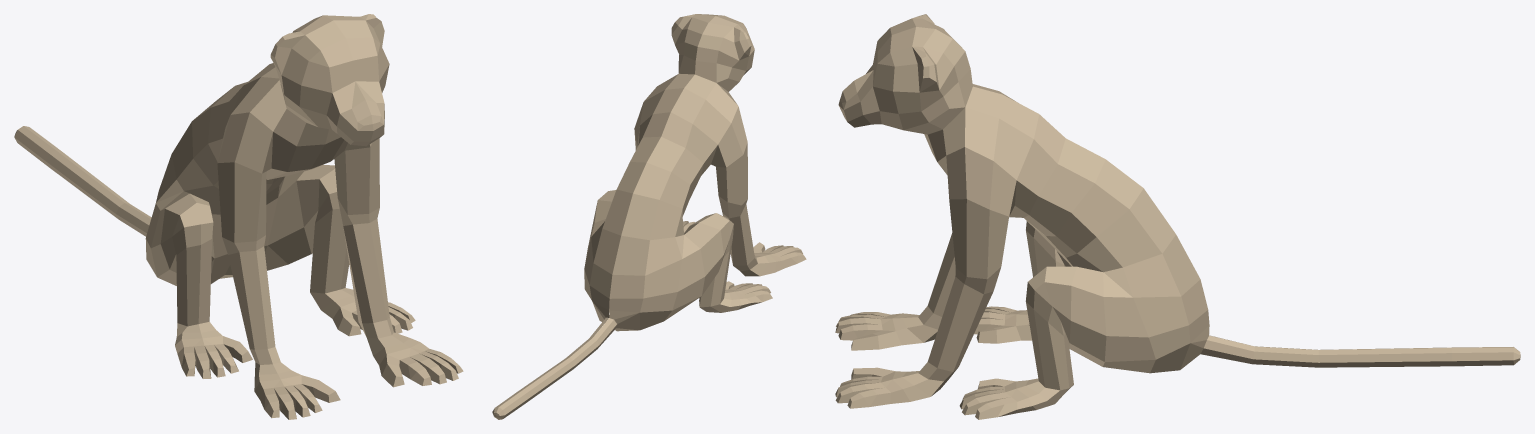
Rendered from zhuyan.glb.
3 renders of one model, left to right at view 1: azimuth 30°, elevation 25°; view 2: azimuth 150°, elevation 25°; view 3: azimuth 270°, elevation 25°, orthographic. The views are drawn at different scales.
Visible parts, largest first — view 1: Monkey_mesh; view 2: Monkey_mesh; view 3: Monkey_mesh.
Part boxes in pixels (x1,y1,x2,y2): Monkey_mesh: (14,14,463,419); Monkey_mesh: (492,14,806,419); Monkey_mesh: (835,14,1520,419).
Size of the model in its own units: 3.06 by 4.49 by 8.2.
